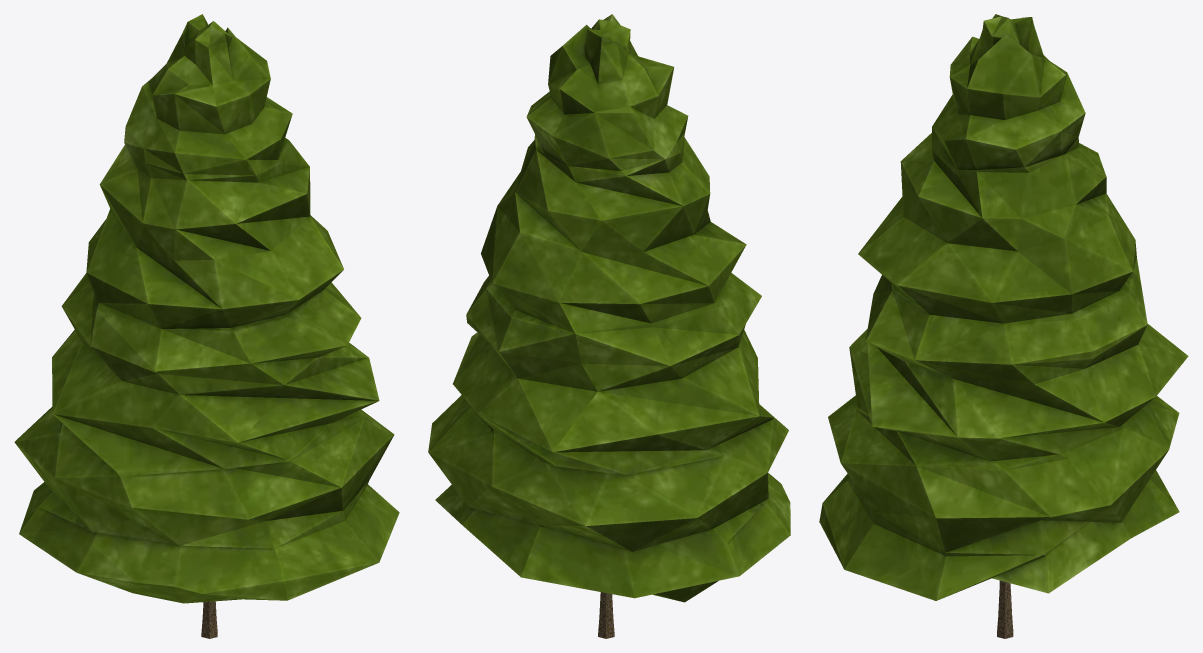
File: 1s5ZjBuJlaU.glb
3 renders of one model, left to right at view 1: azimuth 30°, elevation 25°; view 2: azimuth 150°, elevation 25°; view 3: azimuth 270°, elevation 25°, orthographic.
Visible parts, largest first — view 1: LarchTree_mesh; view 2: LarchTree_mesh; view 3: LarchTree_mesh.
Part boxes in pixels (x1,y1,x2,y2): LarchTree_mesh: (14, 14, 399, 638); LarchTree_mesh: (428, 14, 790, 638); LarchTree_mesh: (819, 14, 1188, 638).
Size of the model in its own units: 0.5433 by 1 by 0.5399.
1 material, 1 textured.
